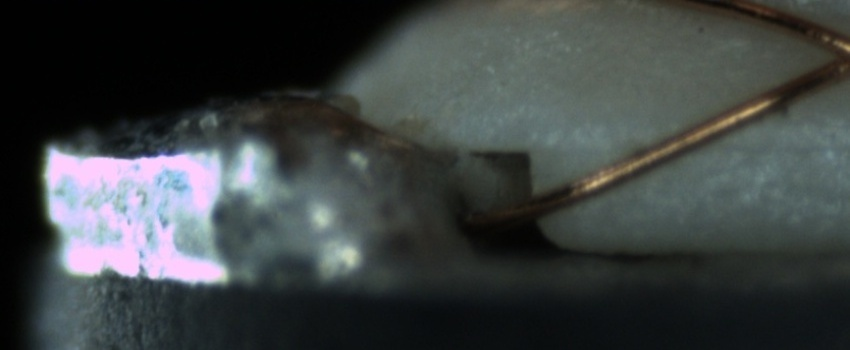CL: (804, 23, 850, 90)
DL: (565, 111, 848, 174)
